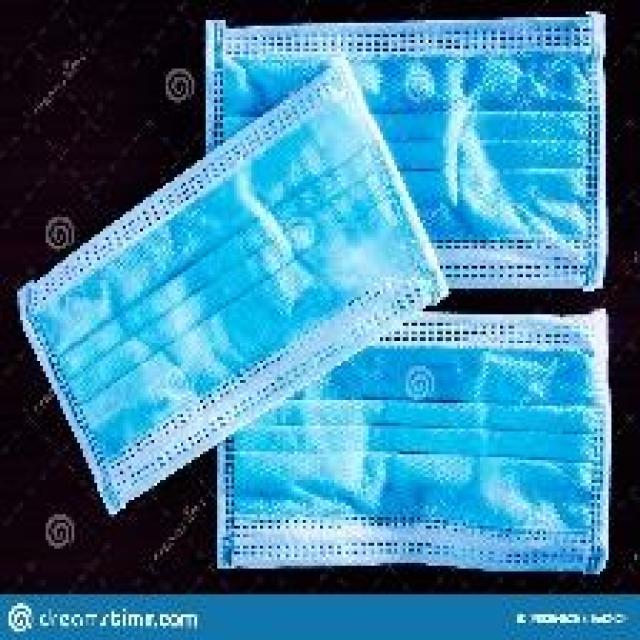Mask: (124, 240, 640, 598), (13, 105, 474, 429), (198, 0, 640, 308)
